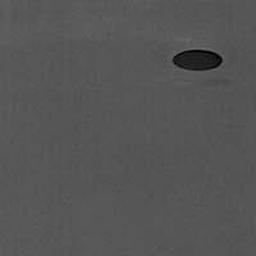Punching: (173, 50, 223, 72)
